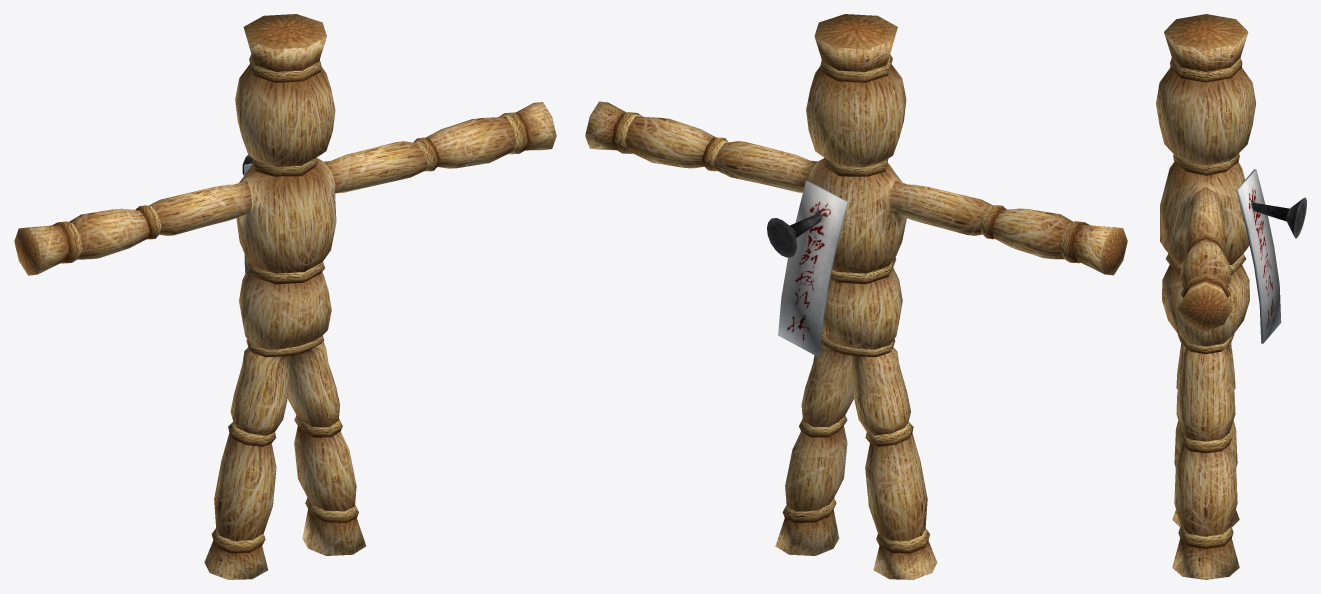
The model's file is wand_s_wara_gothloli_waraningyou.glb.
3 renders of one model, left to right at view 1: azimuth 30°, elevation 25°; view 2: azimuth 150°, elevation 25°; view 3: azimuth 270°, elevation 25°, orthographic. The views are drawn at different scales.
Bounding box in the file's own units: 0.6099 × 0.5925 × 0.1567.
2 materials, 2 textured.
